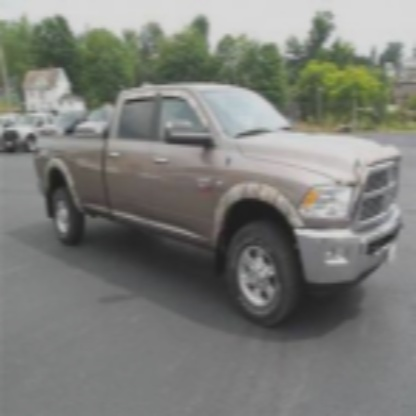Vehicle: (21, 66, 402, 335)
